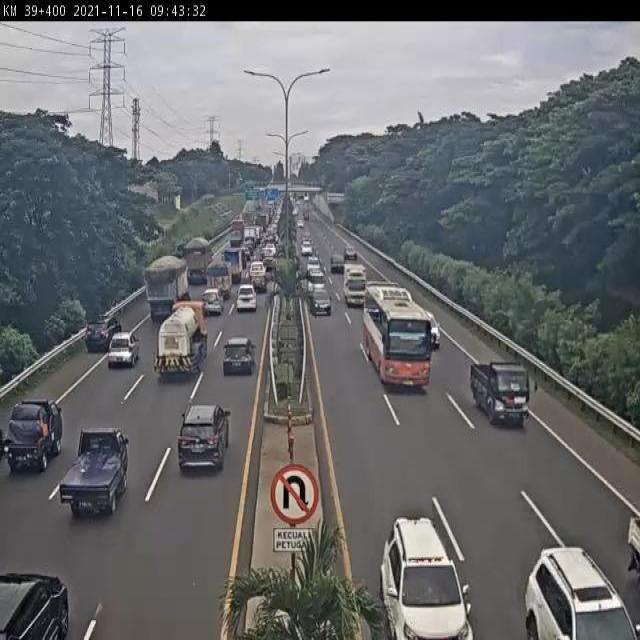ARABA: (379, 513, 473, 640), (58, 424, 130, 520), (4, 397, 62, 480), (176, 403, 231, 477), (84, 312, 121, 359), (106, 329, 140, 371), (221, 342, 255, 382), (310, 285, 333, 316), (201, 285, 224, 315), (235, 287, 258, 317), (250, 262, 268, 290)
KAMYONET: (153, 298, 209, 382), (471, 359, 538, 428), (143, 253, 193, 329), (180, 239, 211, 288), (344, 262, 368, 306), (204, 263, 231, 300)
OTOBUS: (362, 280, 439, 388)
